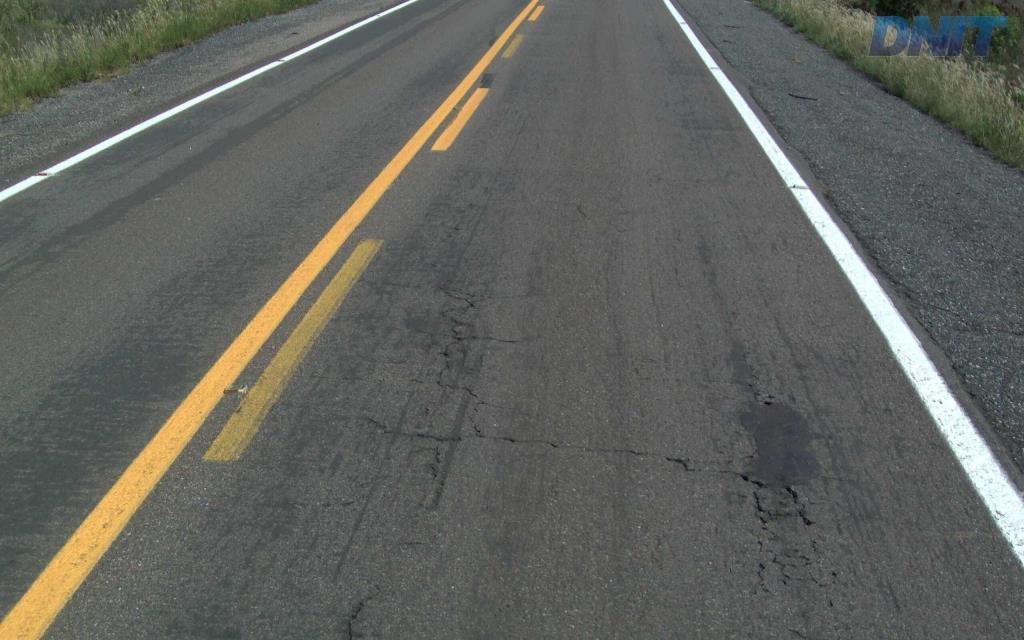crack: (741, 478, 816, 526), (752, 490, 792, 530)
